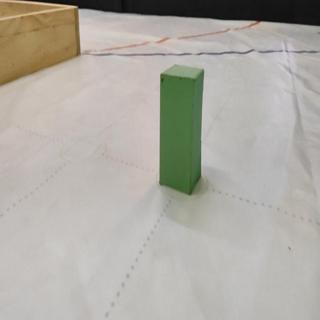greenbox: (160, 63, 205, 195)
